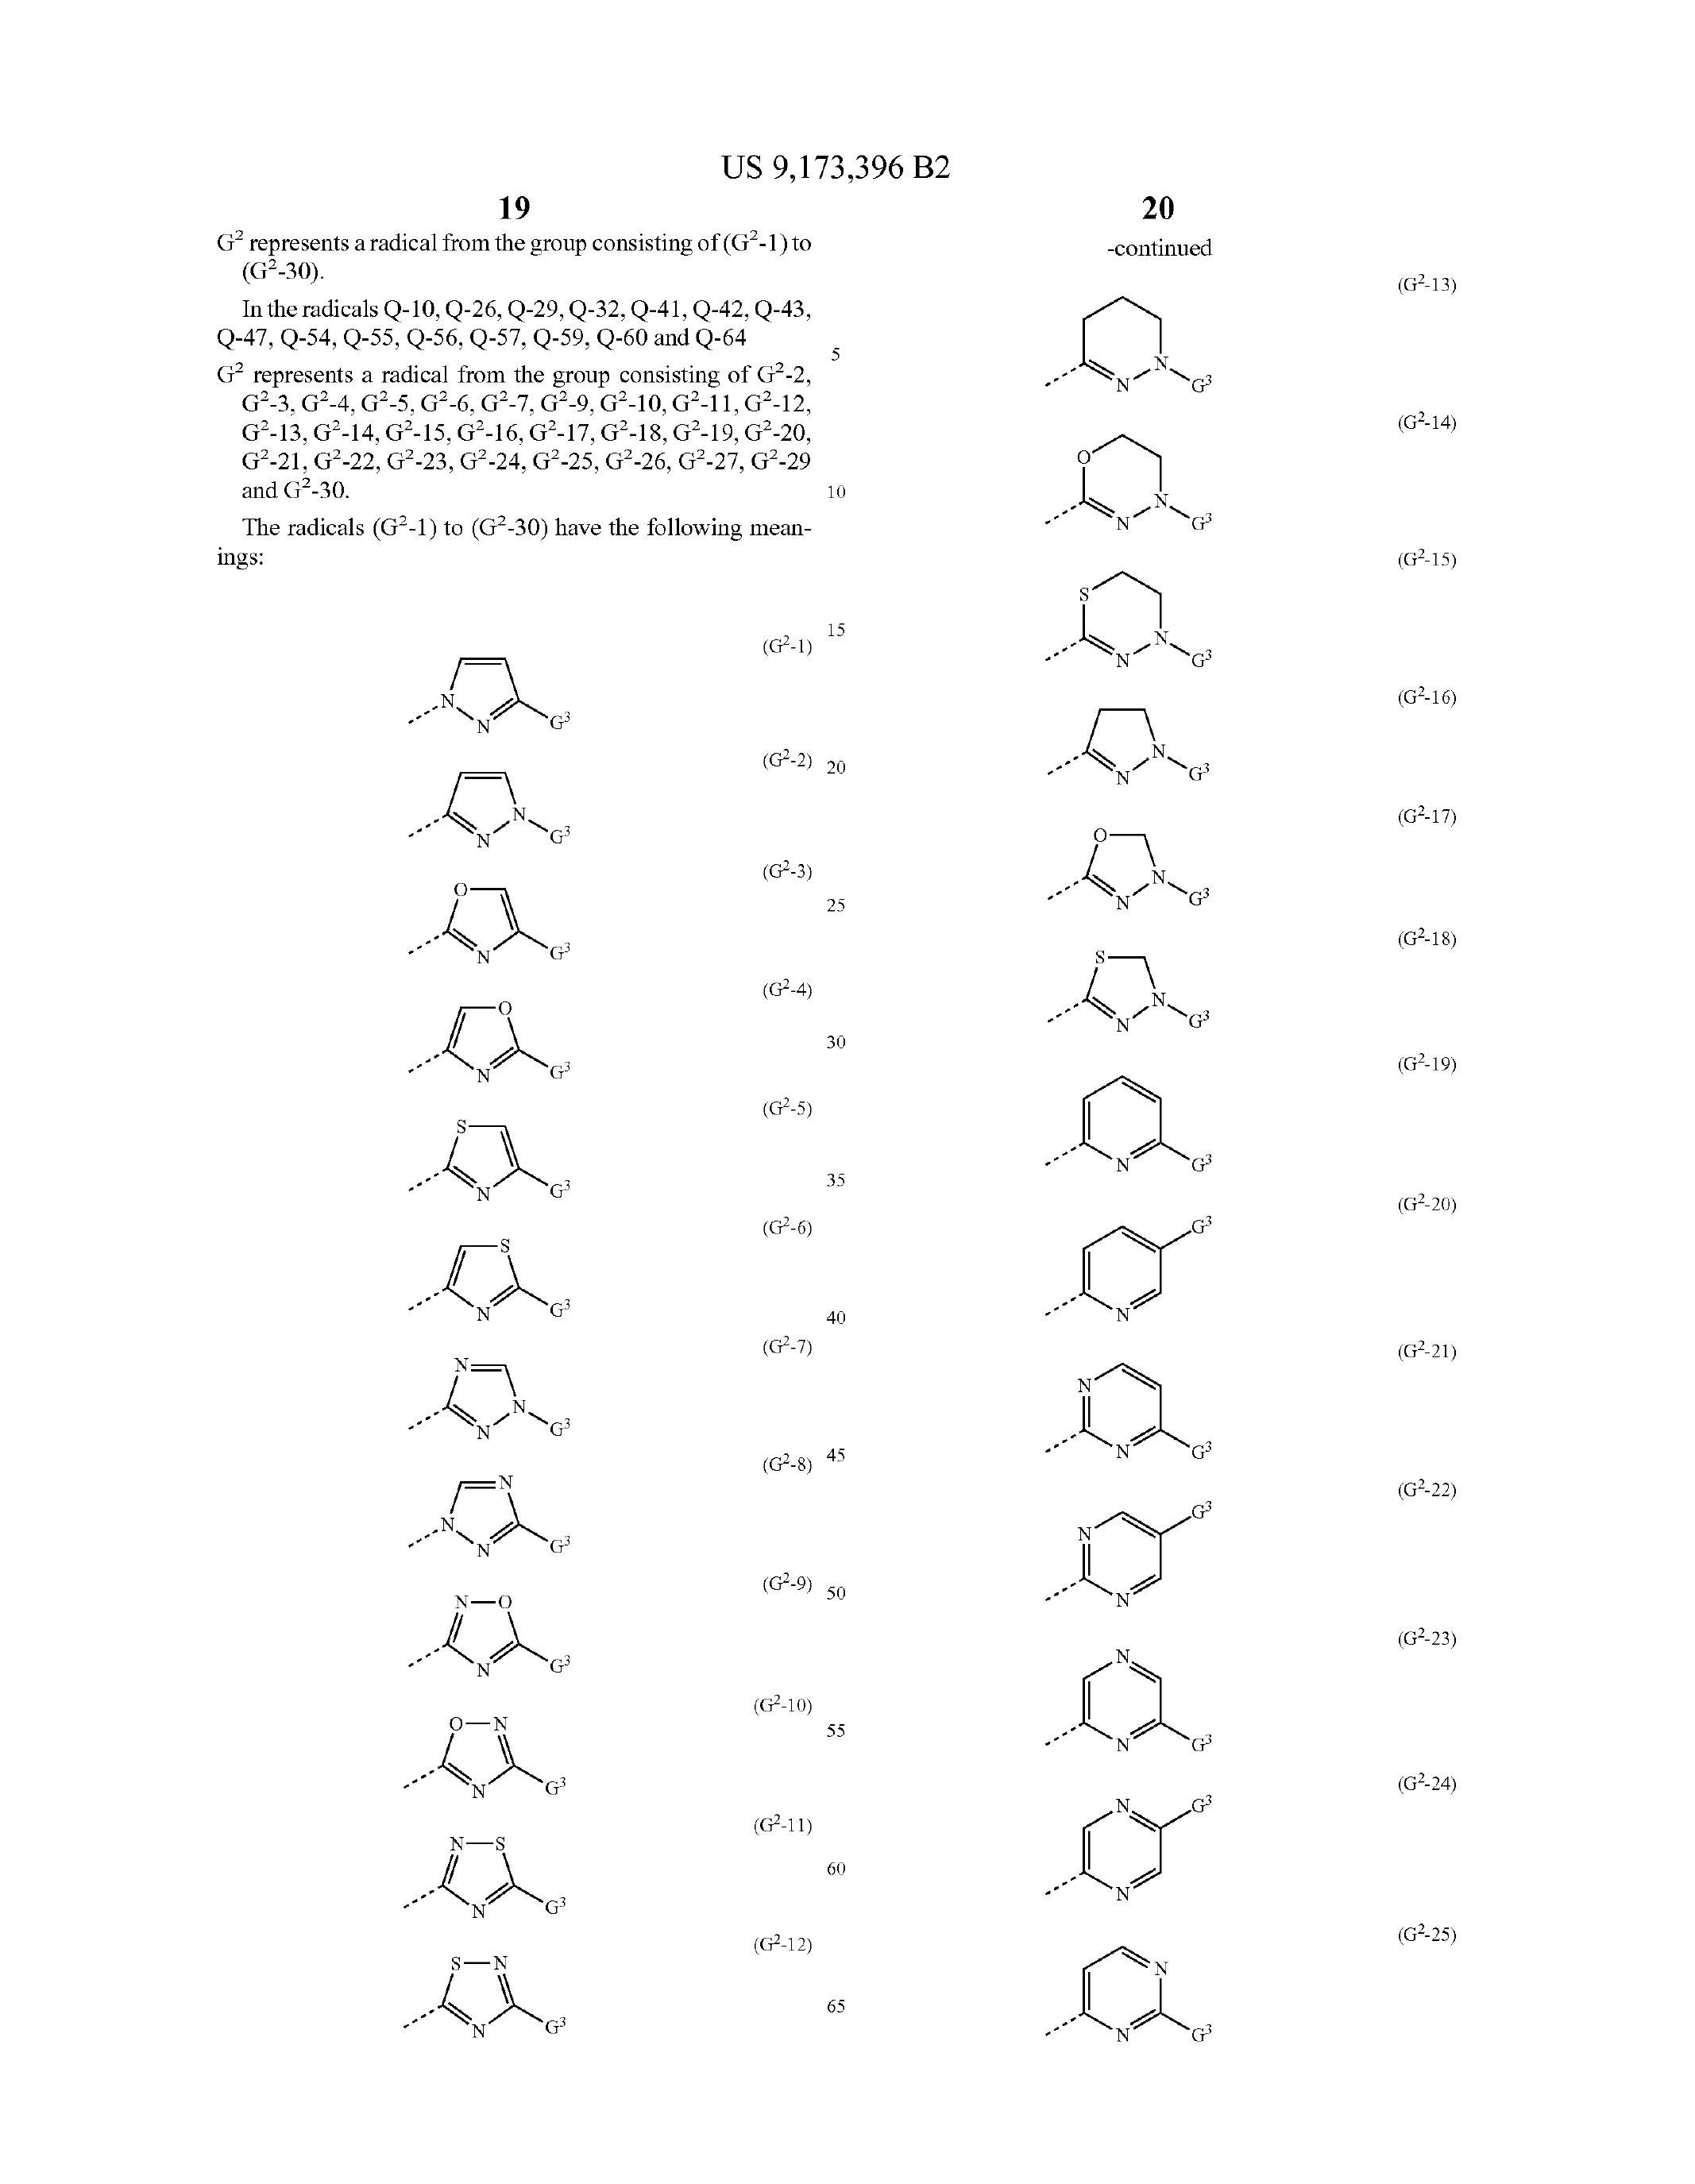intermediates: (965, 1617, 1262, 2078)
